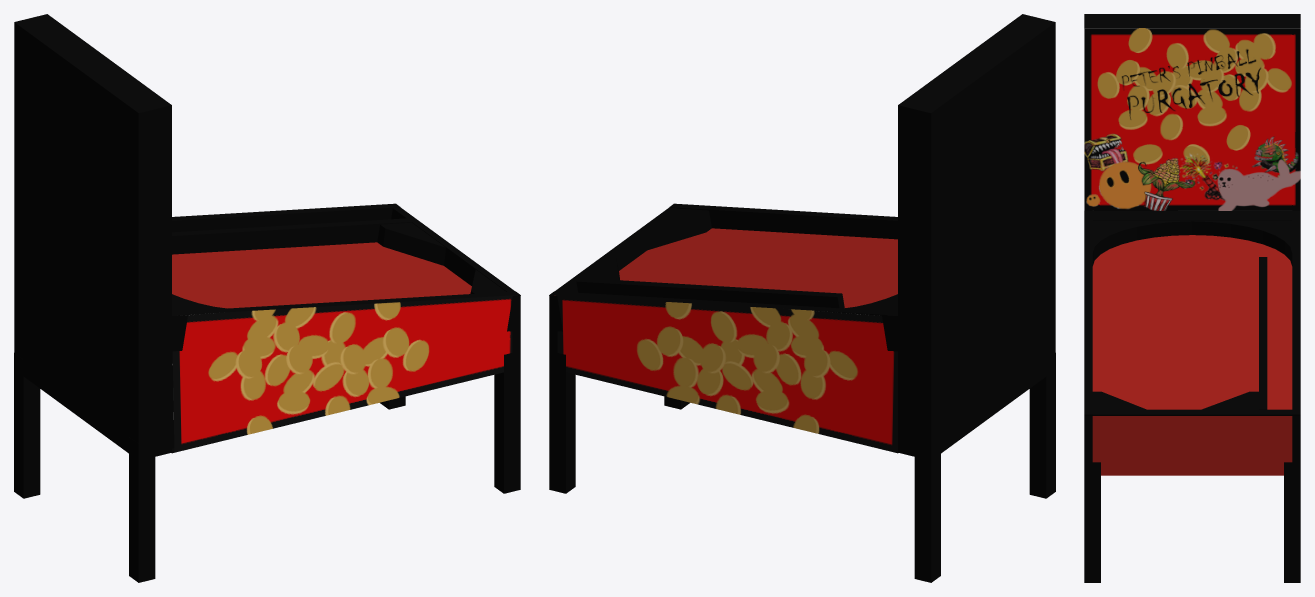
The model's file is pinball.fbx.
The picture shows the model from 3 angles, left to right: view 1: azimuth 30°, elevation 25°; view 2: azimuth 150°, elevation 25°; view 3: azimuth 270°, elevation 25°; orthographic projection. The views are drawn at different scales.
Visible parts, largest first — view 1: pinballmachine; view 2: pinballmachine; view 3: pinballmachine.
Part boxes in pixels (bbox=[...]): pinballmachine: bbox=[14, 14, 520, 582]; pinballmachine: bbox=[549, 14, 1055, 582]; pinballmachine: bbox=[1084, 14, 1300, 582].
Size of the model in its own units: 4604 by 5406 by 2600.
5 materials, 3 textured.
